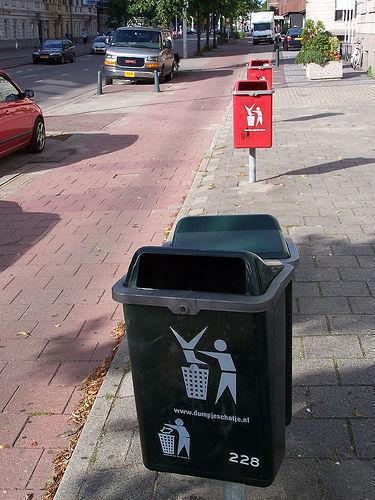Bote de Basura: (114, 242, 291, 489)
